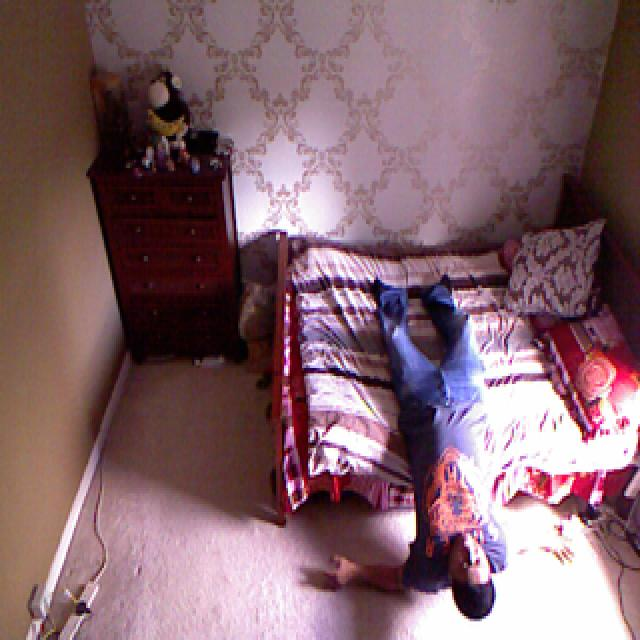lying: (317, 274, 577, 618)
